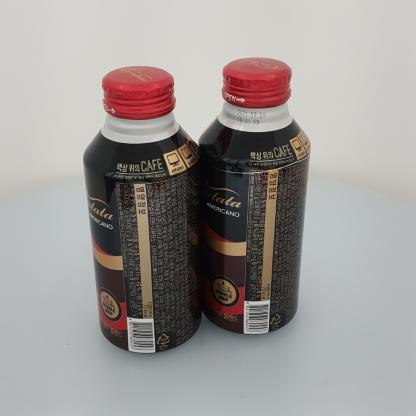--B_F---------: (83, 66, 201, 354), (198, 57, 311, 335)
